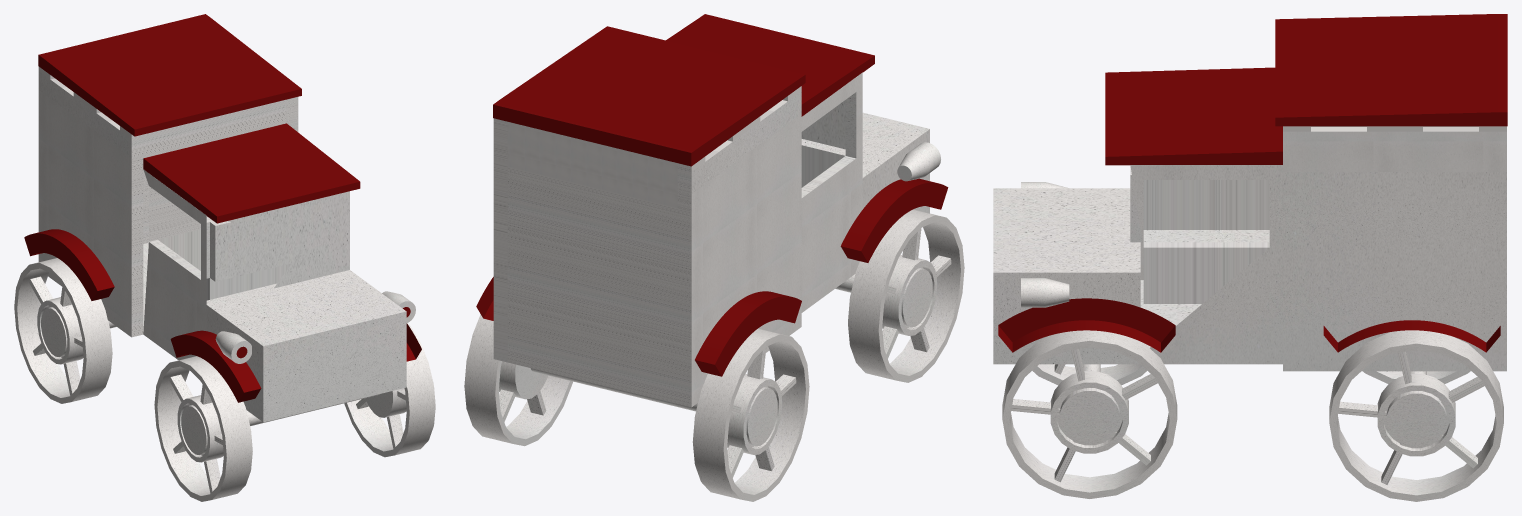
The model's file is truck.obj.
3 renders of one model, left to right at view 1: azimuth 30°, elevation 25°; view 2: azimuth 150°, elevation 25°; view 3: azimuth 270°, elevation 25°, orthographic. The views are drawn at different scales.
Parts seen in each view (by area): view 1: polySurface3 group3 Kamyon, group3 Kamyon pCube6, group3 Kamyon pCube5, group3 Kamyon teker_1, group3 Kamyon teker_2, group3 Kamyon teker_3, group3 Kamyon pCube8, group3 Kamyon pCube7, group3 Kamyon pCylinder3; view 2: polySurface3 group3 Kamyon, group3 Kamyon pCube6, group3 Kamyon teker_1, group3 Kamyon teker_2, group3 Kamyon teker_4, group3 Kamyon pCube5, group3 Kamyon pCube8, group3 Kamyon pCube7, group3 Kamyon pCylinder3, group3 Kamyon pCylinder5; view 3: polySurface3 group3 Kamyon, group3 Kamyon pCube6, group3 Kamyon pCube5, group3 Kamyon teker_4, group3 Kamyon teker_3, group3 Kamyon pCube10, group3 Kamyon pCube9, group3 Kamyon pCylinder4, group3 Kamyon teker_1, group3 Kamyon teker_2.
Part boxes in pixels (x1,y1,x2,y2): polySurface3 group3 Kamyon: (38,66,406,422); group3 Kamyon pCube6: (38,14,301,136); group3 Kamyon pCube5: (143,123,360,223); group3 Kamyon teker_1: (154,356,252,501); group3 Kamyon teker_2: (14,258,112,403); group3 Kamyon teker_3: (344,323,435,457); group3 Kamyon pCube8: (24,229,114,300); group3 Kamyon pCube7: (170,330,261,402); group3 Kamyon pCylinder3: (215,331,251,363); polySurface3 group3 Kamyon: (493,72,929,407); group3 Kamyon pCube6: (493,26,805,166); group3 Kamyon teker_1: (848,209,964,382); group3 Kamyon teker_2: (692,328,809,501); group3 Kamyon teker_4: (464,314,572,446); group3 Kamyon pCube5: (666,14,874,116); group3 Kamyon pCube8: (695,291,801,376); group3 Kamyon pCube7: (840,178,948,262); group3 Kamyon pCylinder3: (897,142,940,181); group3 Kamyon pCylinder5: (531,368,697,411); polySurface3 group3 Kamyon: (993,126,1506,371); group3 Kamyon pCube6: (1275,14,1507,126); group3 Kamyon pCube5: (1105,67,1282,165); group3 Kamyon teker_4: (1329,330,1503,501); group3 Kamyon teker_3: (1002,330,1177,498); group3 Kamyon pCube10: (998,298,1175,352); group3 Kamyon pCube9: (1323,320,1500,352); group3 Kamyon pCylinder4: (1021,278,1069,307); group3 Kamyon teker_1: (1032,364,1147,385); group3 Kamyon teker_2: (1363,371,1469,383).
Bounding box in the file's own units: 12.62 × 17.13 × 21.32.
Materials: 3 (2 with a texture image).
